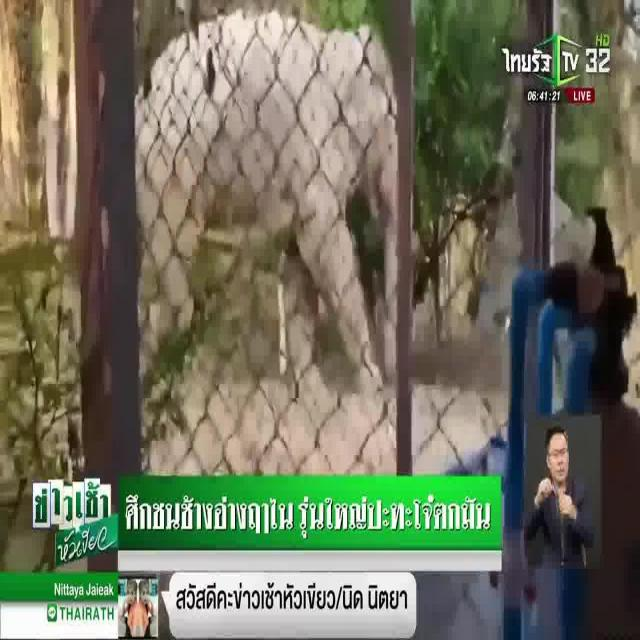Elephant: (160, 4, 422, 364)
